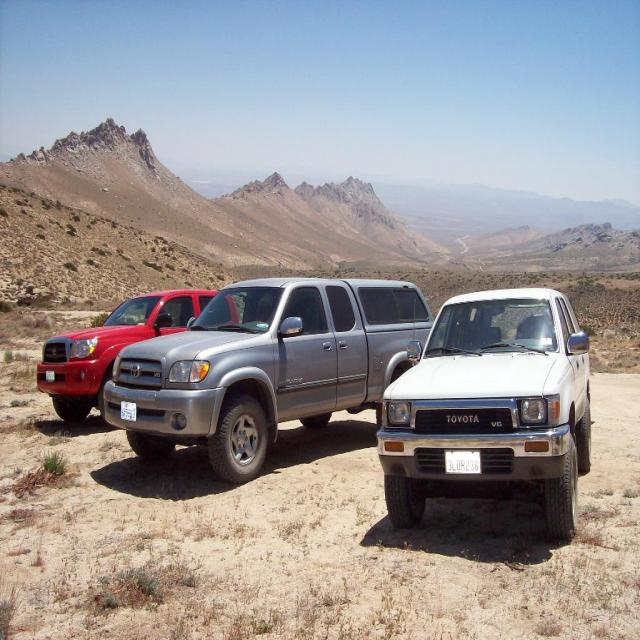other: (103, 274, 441, 482), (376, 286, 592, 544), (36, 287, 238, 426)
